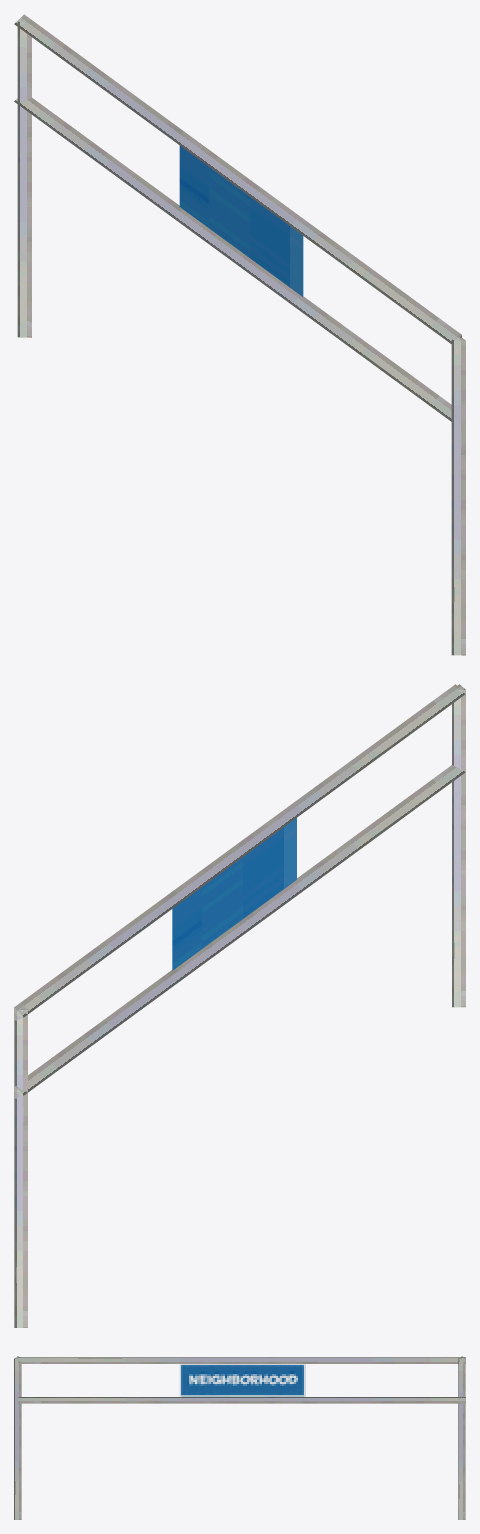
The model's file is SIGN01.glb.
The picture shows the model from 3 angles, top to bottom: view 1: azimuth 30°, elevation 25°; view 2: azimuth 150°, elevation 25°; view 3: azimuth 270°, elevation 25°; orthographic projection. The views are drawn at different scales.
Visible parts, largest first — view 1: SIGN01; view 2: SIGN01; view 3: SIGN01.
Boxes of the visible parts, x1,y1,x2,y2 form: SIGN01: (14,14,465,655); SIGN01: (14,684,465,1327); SIGN01: (14,1356,465,1519).
Size of the model in its own units: 37.47 by 1110 by 2797.
Materials: 1 (1 with a texture image).
